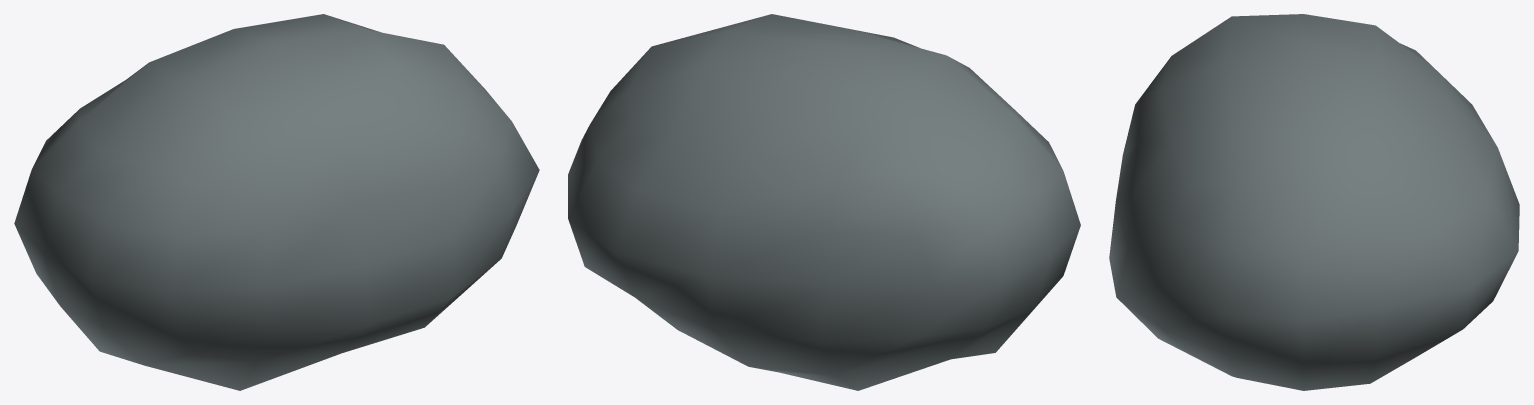
Rendered from SM_boulder.fbx.
3 renders of one model, left to right at view 1: azimuth 30°, elevation 25°; view 2: azimuth 150°, elevation 25°; view 3: azimuth 270°, elevation 25°, orthographic.
Parts seen in each view (by area): view 1: boulder; view 2: boulder; view 3: boulder.
Part boxes in pixels (<box>): boulder: <box>14,14,539,390</box>; boulder: <box>568,14,1080,390</box>; boulder: <box>1109,14,1519,390</box>.
Size of the model in its own units: 633 by 399 by 472.
